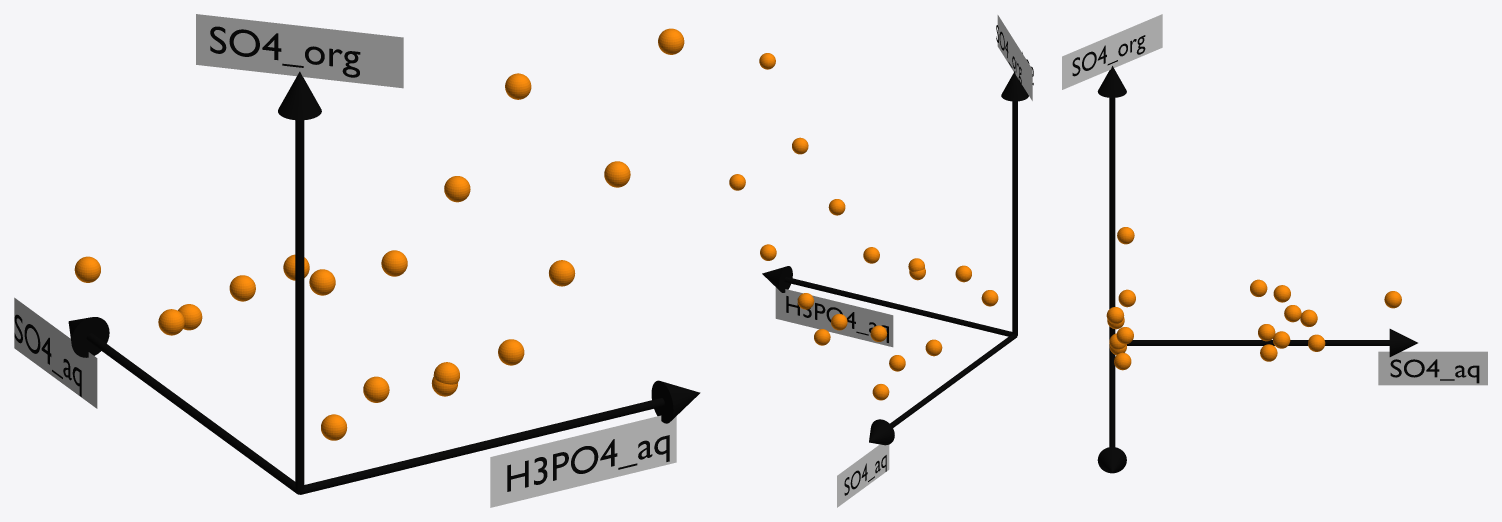
Rendered from LLC washing 130823 SO4_org.glb.
3 views of the same model, side by side, from view 1: azimuth 30°, elevation 25°; view 2: azimuth 150°, elevation 25°; view 3: azimuth 270°, elevation 25° (orthographic). The views are drawn at different scales.
Parts seen in each view (by area): view 1: Plane.011, Plane.009, Plane.010, Z-axis.005, X-axis.003, Y-axis.003, X.007, Z.007, Z-arrow.003, Y-arrow.003, X-arrow.003; view 2: Plane.009, Plane.010, X-axis.003, Z-axis.005, Plane.011, Y-axis.003, Y-arrow.003, X.006, Z-arrow.003, X-arrow.003; view 3: Plane.010, Plane.011, Z-axis.005, Y-axis.003, Y.006, X-axis.003, X-arrow.003, Z-arrow.003, Z.006.
Boxes of the visible parts, left/top/right/bottom form: Plane.011: left=196, top=14, right=403, bottom=88; Plane.009: left=490, top=415, right=676, bottom=507; Plane.010: left=14, top=297, right=97, bottom=408; Z-axis.005: left=295, top=120, right=304, bottom=492; X-axis.003: left=300, top=398, right=664, bottom=494; Y-axis.003: left=86, top=333, right=299, bottom=494; X.007: left=507, top=435, right=669, bottom=491; Z.007: left=210, top=26, right=360, bottom=77; Z-arrow.003: left=278, top=71, right=321, bottom=120; Y-arrow.003: left=68, top=317, right=109, bottom=357; X-arrow.003: left=651, top=380, right=700, bottom=423; Plane.009: left=775, top=287, right=893, bottom=347; Plane.010: left=837, top=444, right=889, bottom=507; X-axis.003: left=784, top=277, right=1012, bottom=336; Z-axis.005: left=1012, top=101, right=1017, bottom=335; Plane.011: left=997, top=15, right=1032, bottom=100; Y-axis.003: left=890, top=334, right=1017, bottom=427; Y-arrow.003: left=869, top=419, right=894, bottom=445; X.006: left=786, top=296, right=888, bottom=342; Z-arrow.003: left=1001, top=71, right=1028, bottom=101; X-arrow.003: left=762, top=266, right=792, bottom=292; Plane.010: left=1378, top=351, right=1487, bottom=385; Plane.011: left=1062, top=14, right=1162, bottom=89; Z-axis.005: left=1109, top=98, right=1115, bottom=339; Y-axis.003: left=1127, top=340, right=1389, bottom=345; Y.006: left=1390, top=359, right=1479, bottom=383; X-axis.003: left=1109, top=344, right=1115, bottom=446; X-arrow.003: left=1097, top=447, right=1126, bottom=473; Z-arrow.003: left=1097, top=66, right=1126, bottom=97; Z.006: left=1072, top=35, right=1145, bottom=76.
Size of the model in its own units: 1.22 by 1.33 by 1.46.
